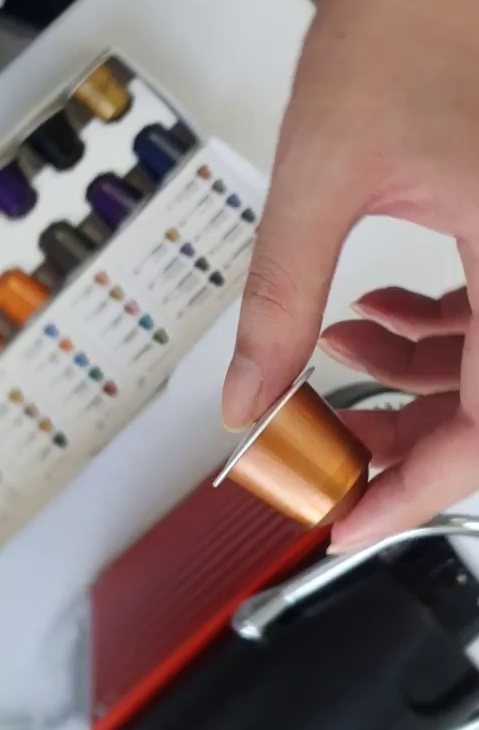capsule_3: (212, 366, 374, 530)
